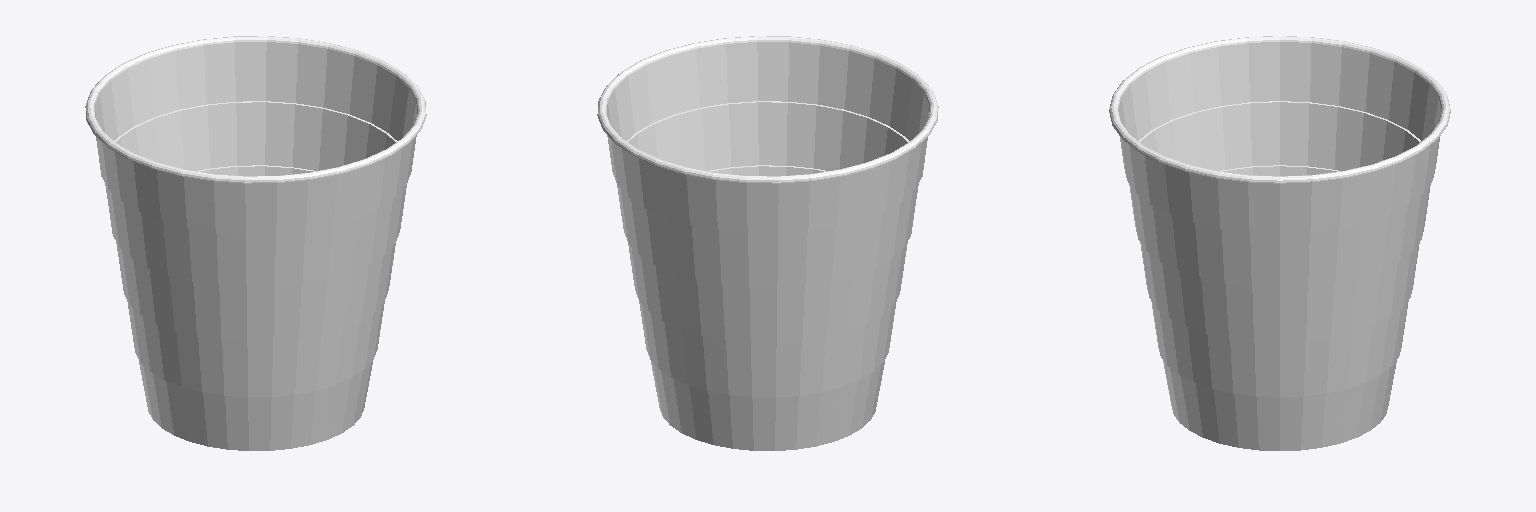
File: bin.obj
3 views of the same model, side by side, from view 1: azimuth 30°, elevation 25°; view 2: azimuth 150°, elevation 25°; view 3: azimuth 270°, elevation 25° (orthographic).
Visible parts, largest first — view 1: Circle.007_binext.001_0, Circle.007_bin.001_0; view 2: Circle.007_binext.001_0, Circle.007_bin.001_0; view 3: Circle.007_binext.001_0, Circle.007_bin.001_0.
Part boxes in pixels (x1,y1,x2,y2): Circle.007_binext.001_0: (96, 135, 416, 450); Circle.007_bin.001_0: (85, 36, 426, 183); Circle.007_binext.001_0: (607, 135, 927, 450); Circle.007_bin.001_0: (597, 36, 938, 183); Circle.007_binext.001_0: (1120, 137, 1439, 450); Circle.007_bin.001_0: (1109, 36, 1450, 183).
Bounding box in the file's own units: 0.77 × 0.743 × 0.77.